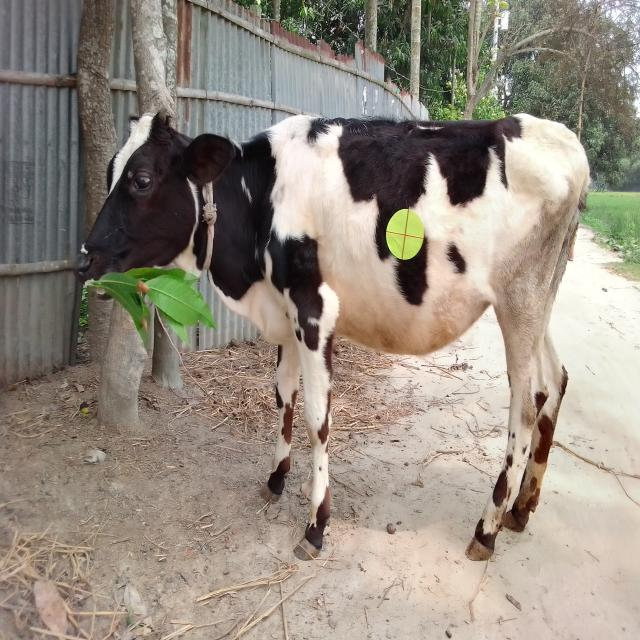badan_sapi: (255, 114, 590, 356)
sapi: (70, 101, 599, 569)
